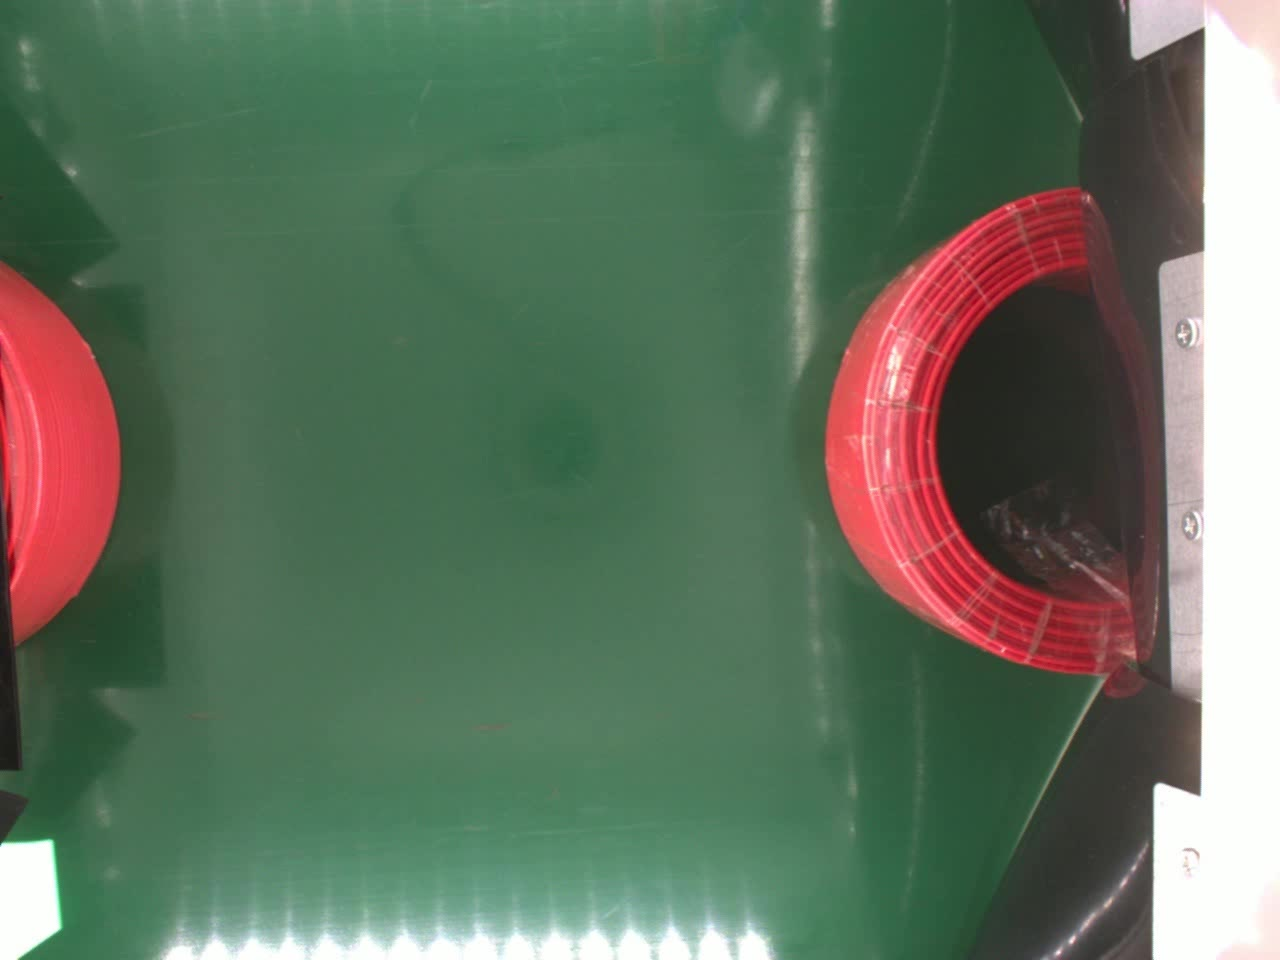red: (823, 184, 1140, 677), (0, 257, 119, 644)
